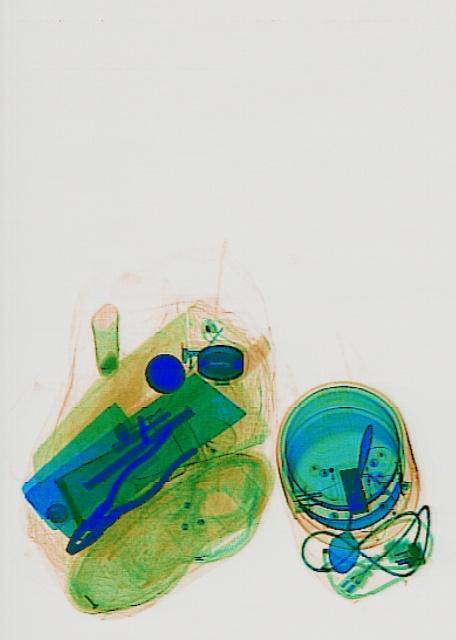Pliers: (53, 410, 197, 572)
